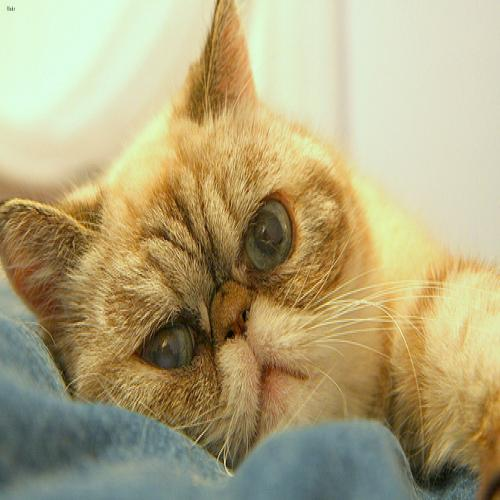persian: (1, 1, 408, 487)
